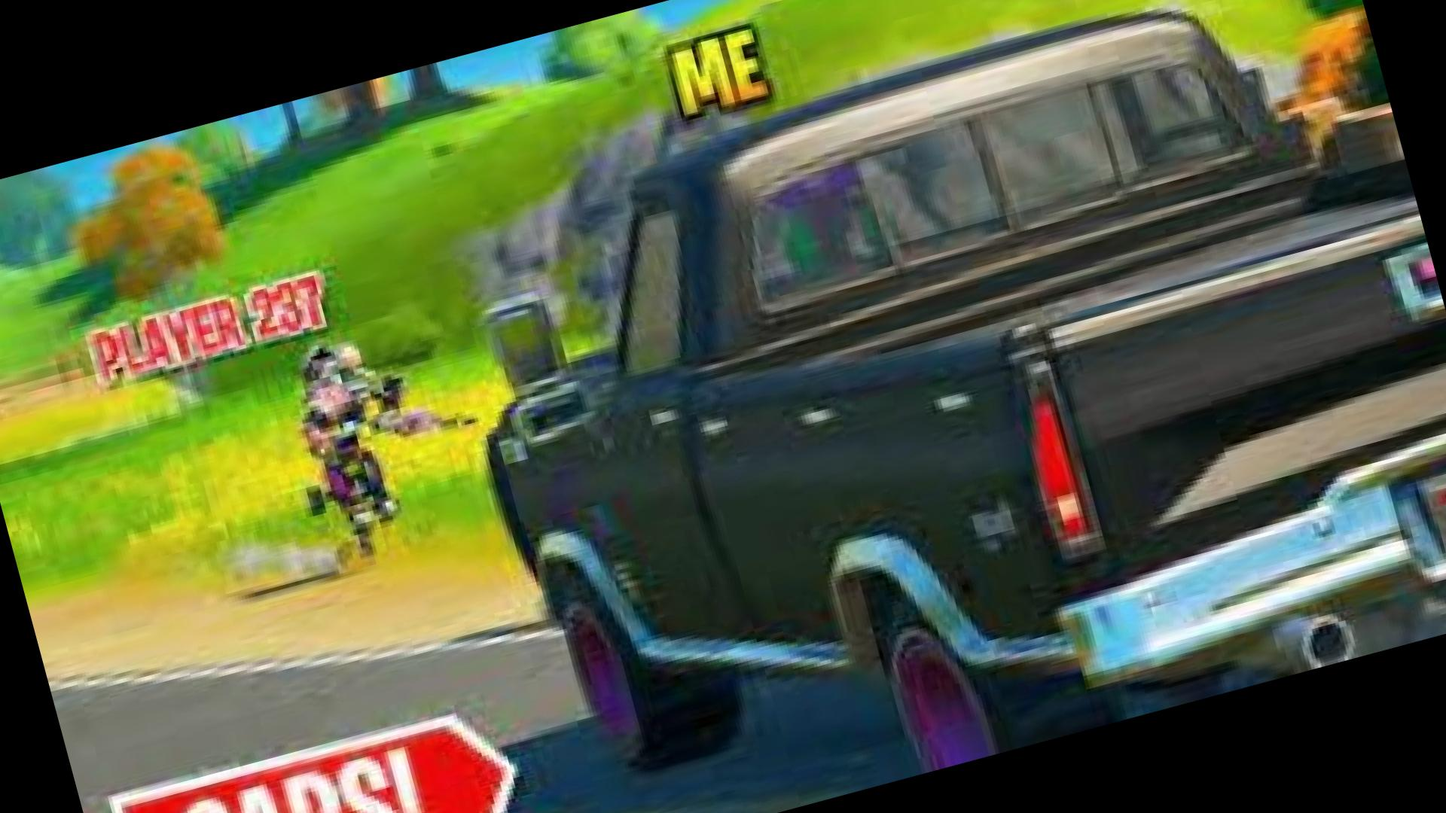player: (286, 344, 443, 560)
